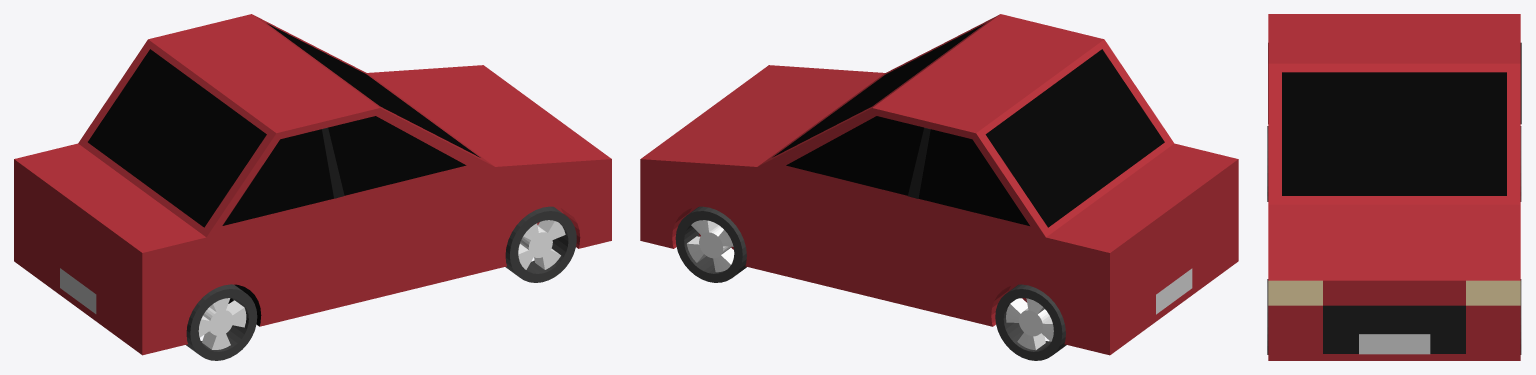
Rendered from car.fbx.
The picture shows the model from 3 angles, left to right: view 1: azimuth 30°, elevation 25°; view 2: azimuth 150°, elevation 25°; view 3: azimuth 270°, elevation 25°; orthographic projection.
Visible parts, largest first — view 1: 立方体; view 2: 立方体; view 3: 立方体.
Part boxes in pixels (left/top/right/bottom): 立方体: left=14, top=14, right=611, bottom=360; 立方体: left=640, top=14, right=1238, bottom=360; 立方体: left=1267, top=14, right=1521, bottom=360.
Size of the model in its own units: 561 by 243 by 267.
